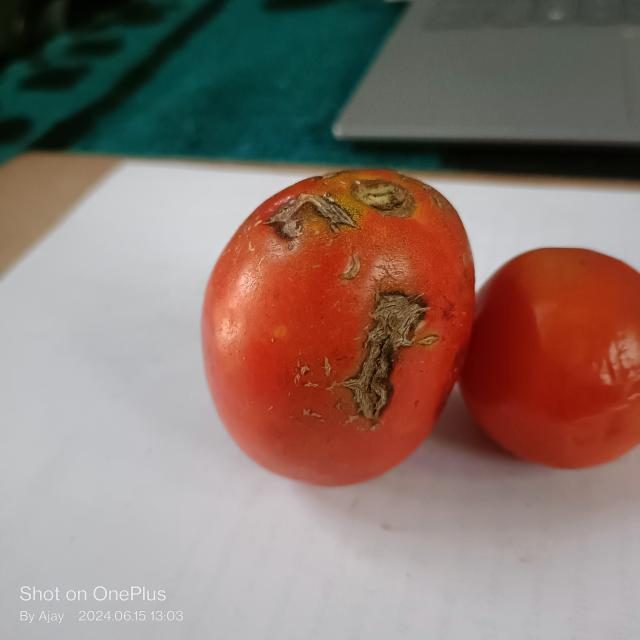Bacterial_Spot: (346, 284, 432, 426), (264, 197, 351, 240), (356, 180, 418, 221), (338, 251, 367, 279), (294, 366, 320, 392)
